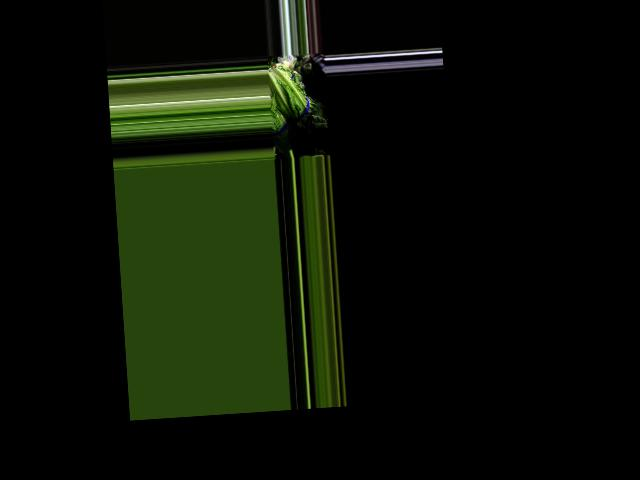lettuce: (268, 68, 324, 135)
